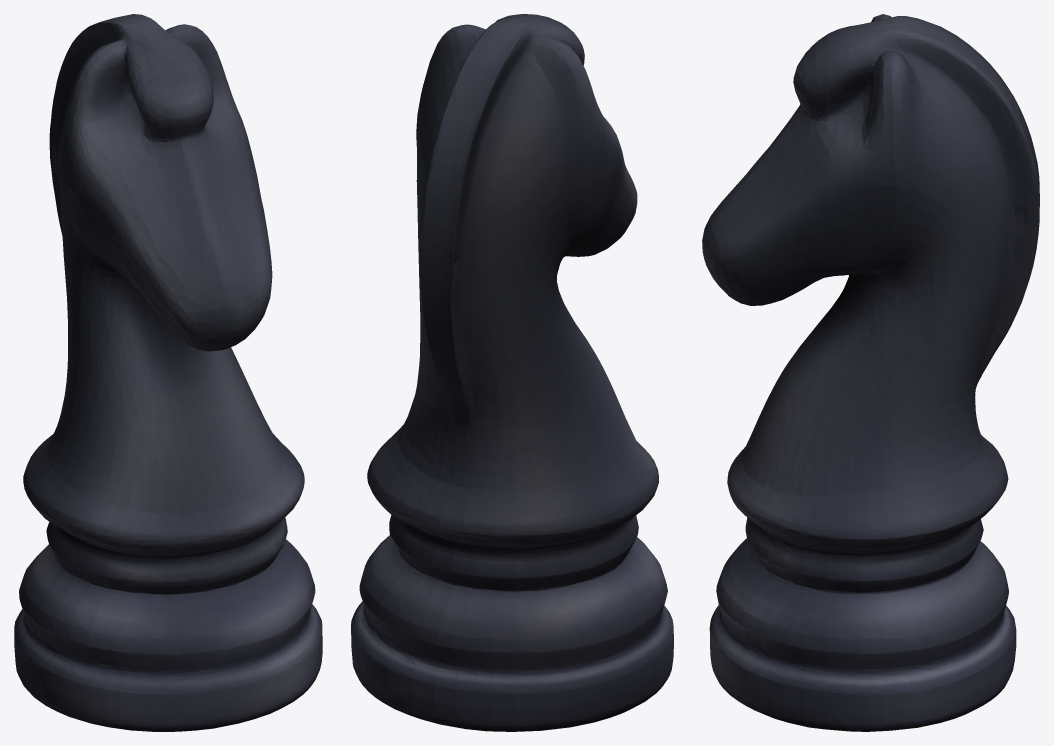
The model's file is chess-knight.glb.
3 renders of one model, left to right at view 1: azimuth 30°, elevation 25°; view 2: azimuth 150°, elevation 25°; view 3: azimuth 270°, elevation 25°, orthographic. The views are drawn at different scales.
Visible parts, largest first — view 1: world; view 2: world; view 3: world.
Boxes of the visible parts, x1,y1,x2,y2 form: world: [14, 14, 322, 731]; world: [351, 14, 673, 731]; world: [702, 14, 1039, 731].
Size of the model in its own units: 0.4424 by 0.9999 by 0.477.
Materials: 1 (1 with a texture image).
